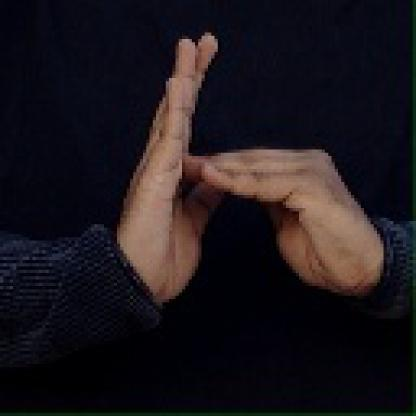Z: (85, 28, 372, 296)
